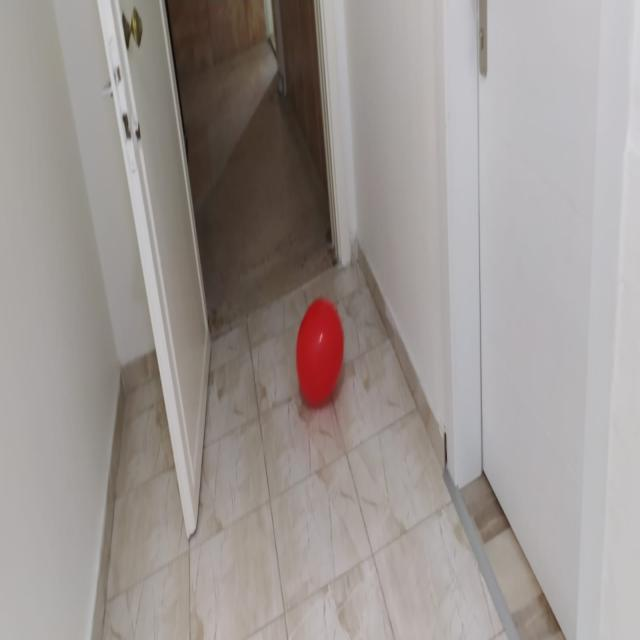balloon: (293, 284, 346, 419)
